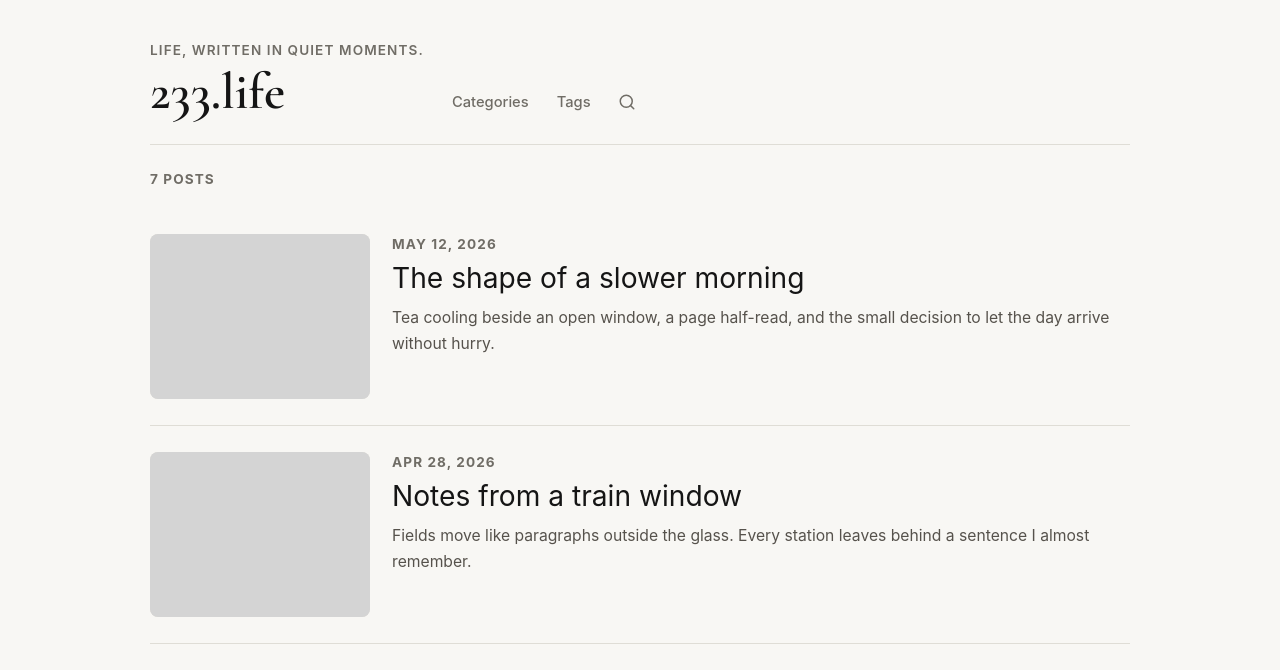
it: demo homepage › opens a mock detail page from the demo homepage without loading real API data
Click the link "The shape of a slower morning": [598, 278] box x1=392 y1=261 x2=804 y2=295
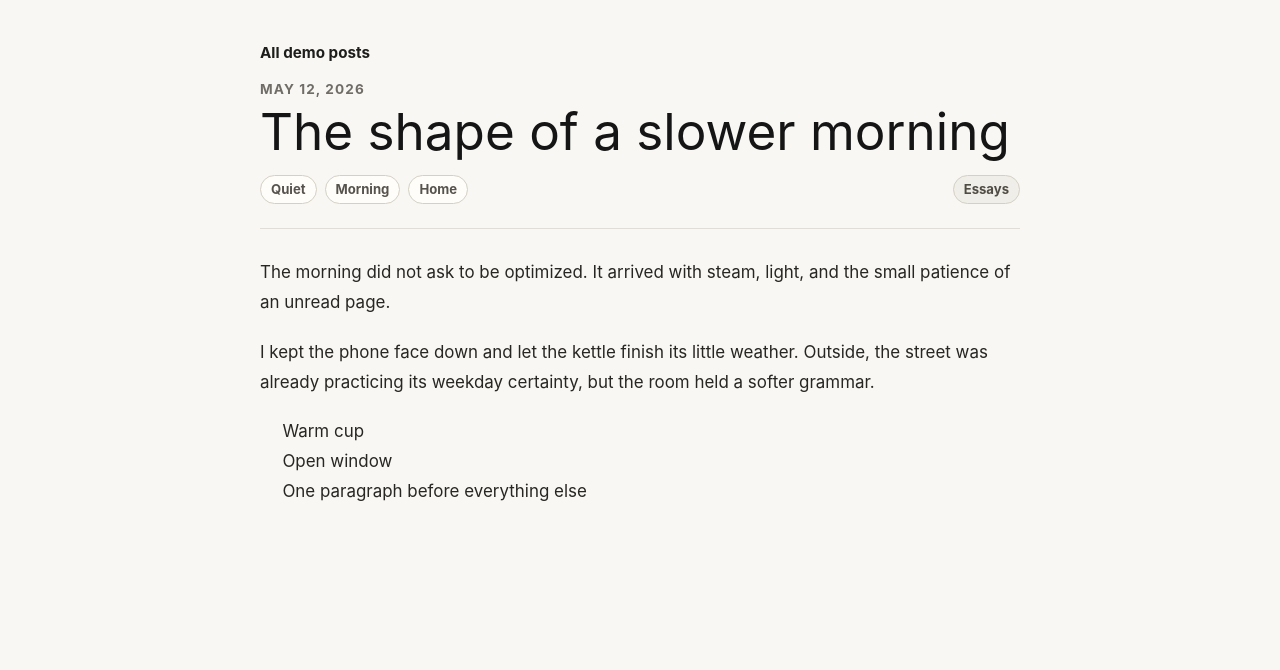
expect the heading "The shape of a slower morning" is shown: met, box x1=260 y1=105 x2=1020 y2=159
expect the text "The morning did not ask to be optimized. It arrived with steam, light, and the small patience of an unread page." is shown: met, box x1=260 y1=262 x2=1010 y2=312
